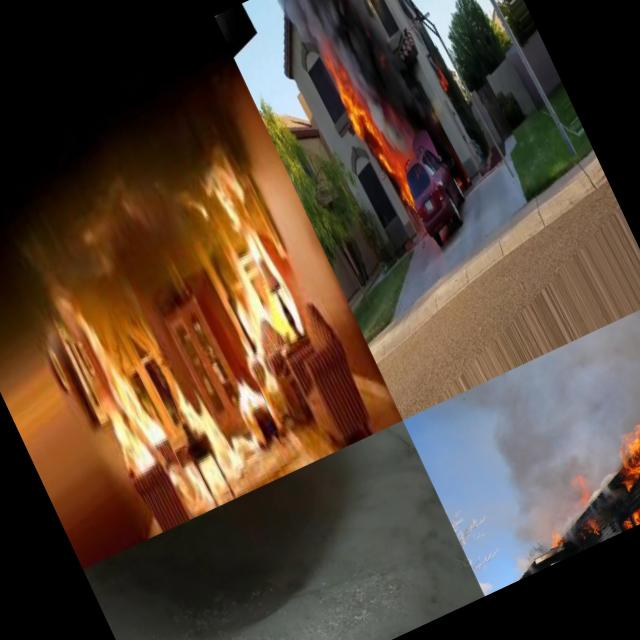fire: (197, 154, 313, 348), (322, 49, 419, 220), (68, 293, 170, 452), (168, 372, 250, 492), (222, 282, 296, 402), (89, 376, 162, 486), (562, 473, 612, 538), (222, 362, 272, 426), (606, 414, 640, 487), (538, 522, 570, 558), (616, 489, 640, 530)
smoke: (414, 298, 640, 505), (5, 155, 226, 321), (308, 0, 434, 157), (487, 462, 575, 544), (271, 0, 345, 67)
